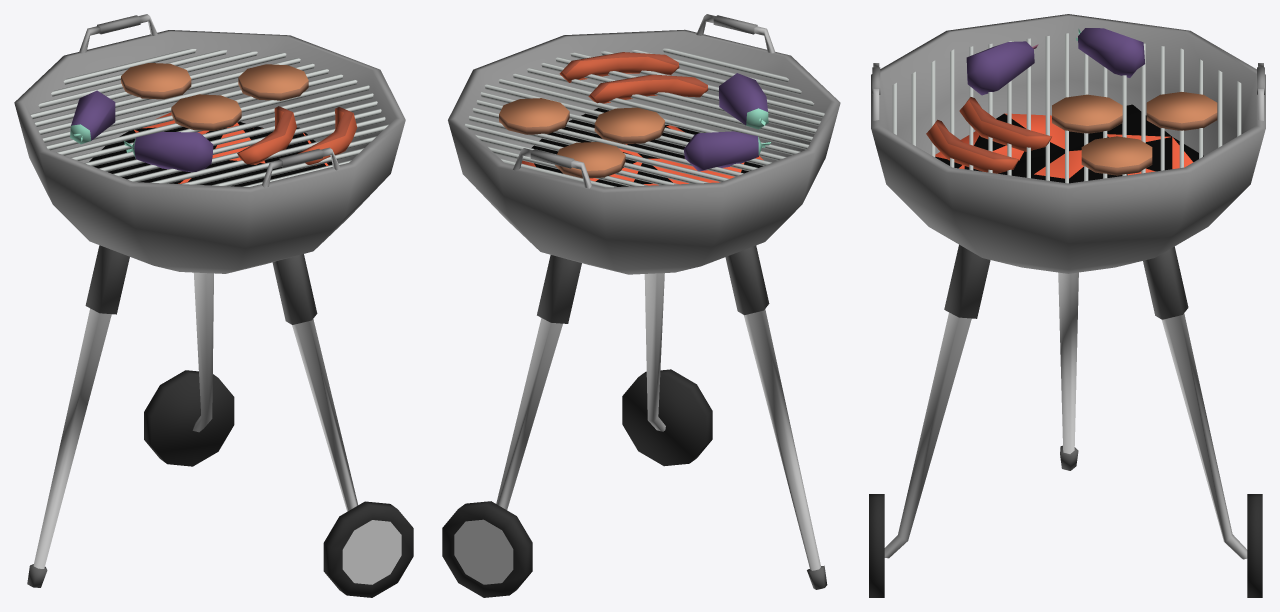
File: Barbacue_01.glb
3 renders of one model, left to right at view 1: azimuth 30°, elevation 25°; view 2: azimuth 150°, elevation 25°; view 3: azimuth 270°, elevation 25°, orthographic. The views are drawn at different scales.
Parts seen in each view (by area): view 1: Barbacue_01; view 2: Barbacue_01; view 3: Barbacue_01.
Part boxes in pixels (x1,y1,x2,y2): Barbacue_01: (14,14,413,597); Barbacue_01: (442,14,840,597); Barbacue_01: (869,14,1265,597).
Size of what is drawn, in the model's own units: 0.8516 by 1.06 by 0.7886.
Materials: 1 (1 with a texture image).
